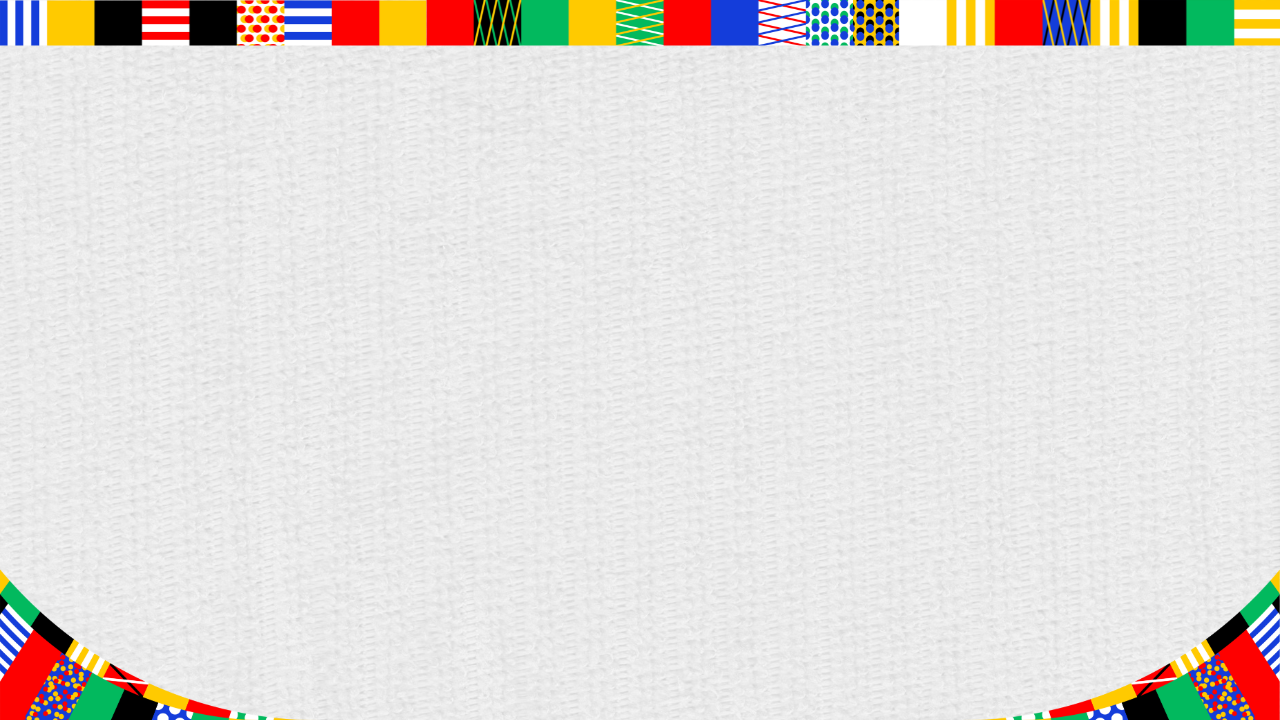

What the dashboard file says about the page in this screenshot:
{"tool":"powerbi","page":{"name":"Introduction","canvas":[1280,720],"ordinal":0},"visuals":[{"type":"shape","box":[1103,114.8,161.5,66.1],"z":0},{"type":"textbox","box":[1123.4,124.5,120.6,46.7],"z":1000}]}

Visuals, with their boxes in screenshot pixels (x1, y1, x2, y2), scaled from the page's 1280x720 canvas onto the 1280x720 screenshot:
shape: <bbox>1103, 115, 1264, 181</bbox>
textbox: <bbox>1123, 124, 1244, 171</bbox>
